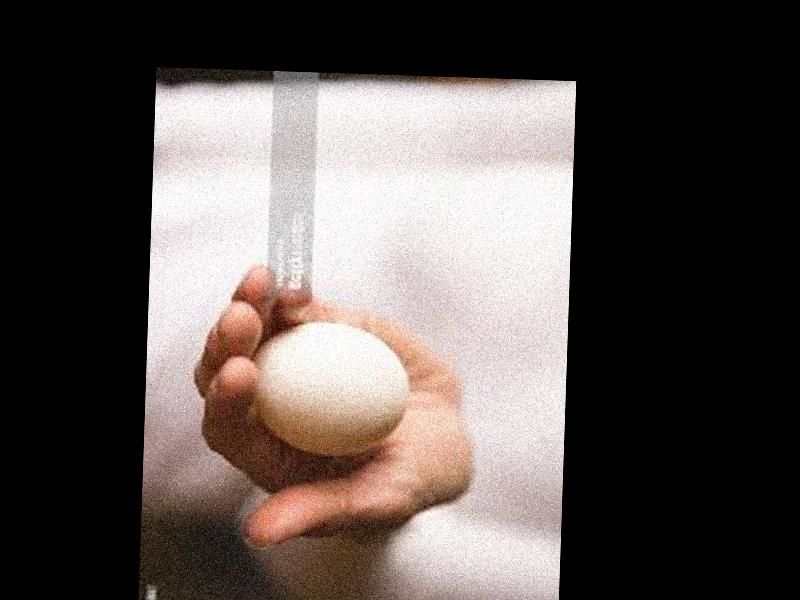Eggs: (251, 320, 409, 460)
